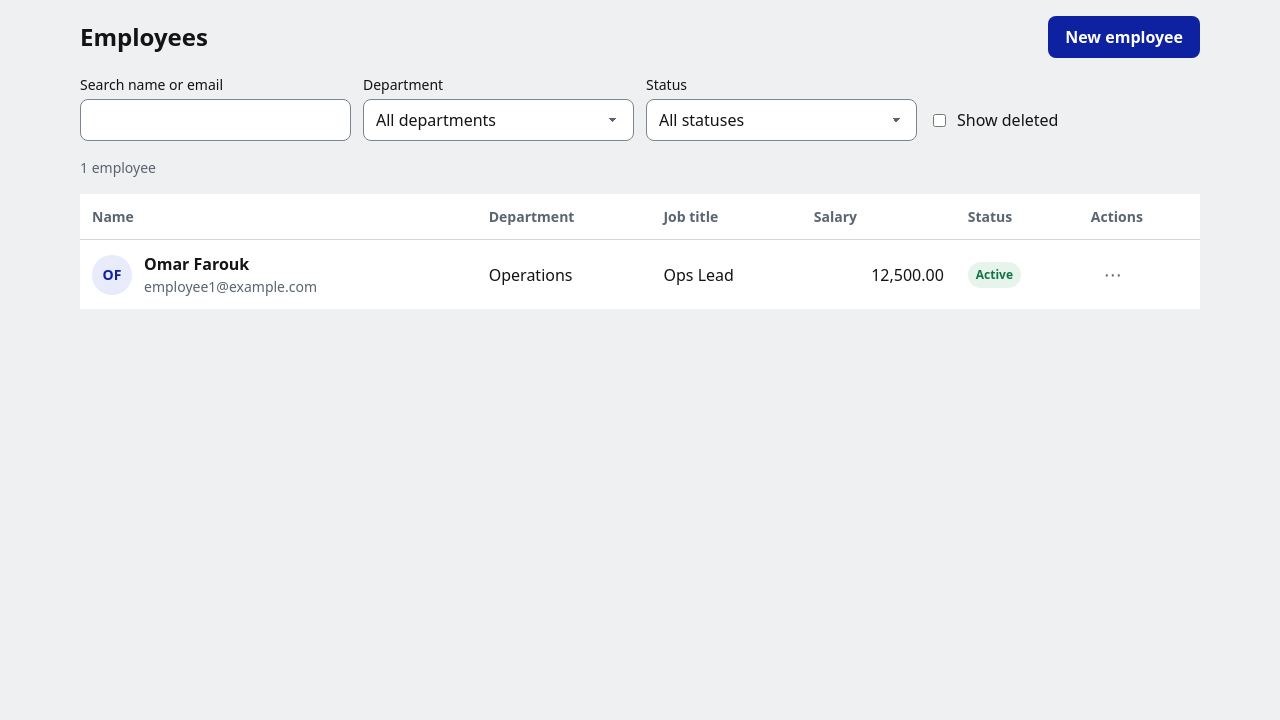
Scenario: Payslip drawer - opening and month (edge case 18) › closes with the close button
The image size is (1280, 720).
expect the table is shown: met, box [80,194,1200,309]
Click the button named "Actions for Omar Farouk" at (1113, 274), box [1091,256,1135,293]
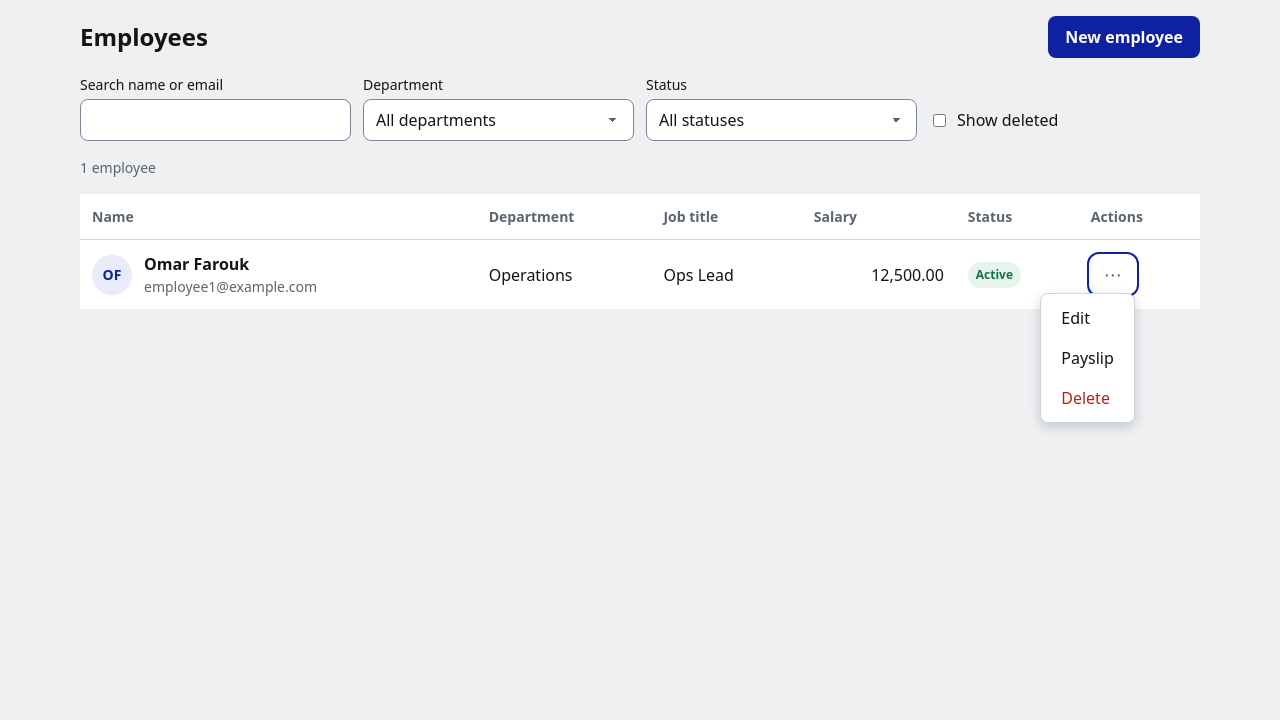
Click the menu item "Payslip" at (1088, 358), box [1045,338,1130,378]
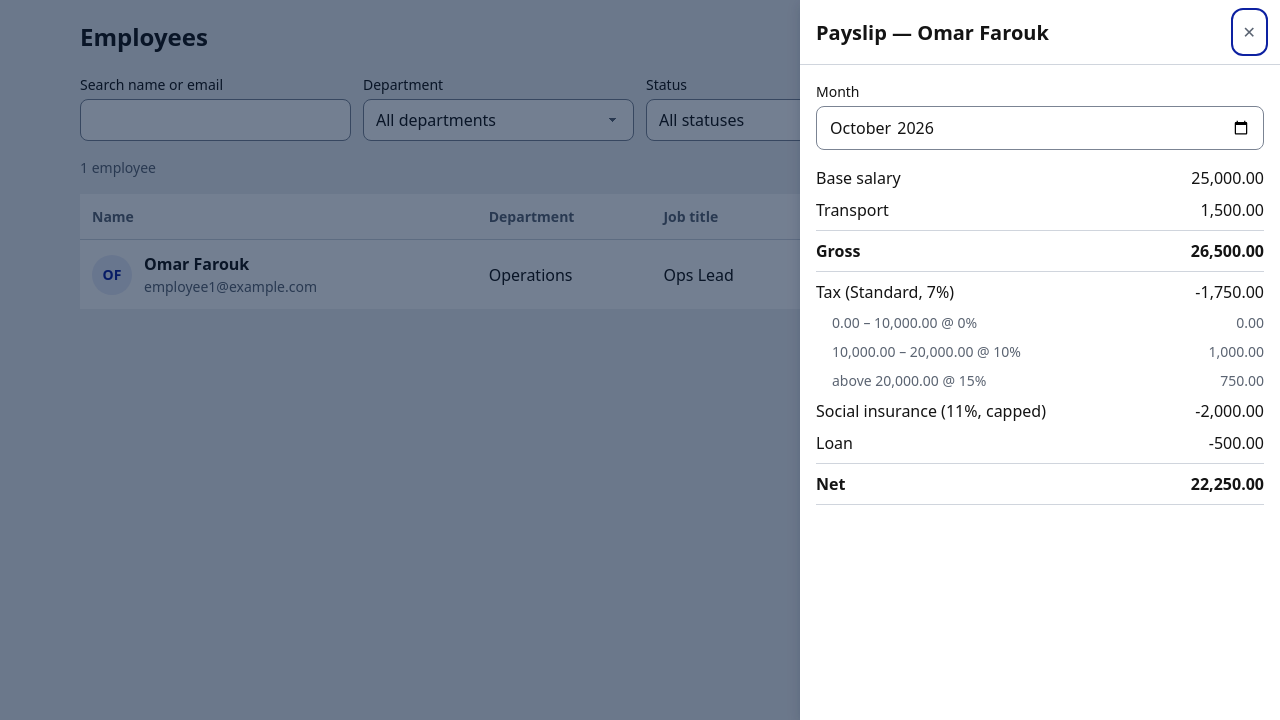
Click the button named "close" at (1249, 32), box [1235,12,1264,52]
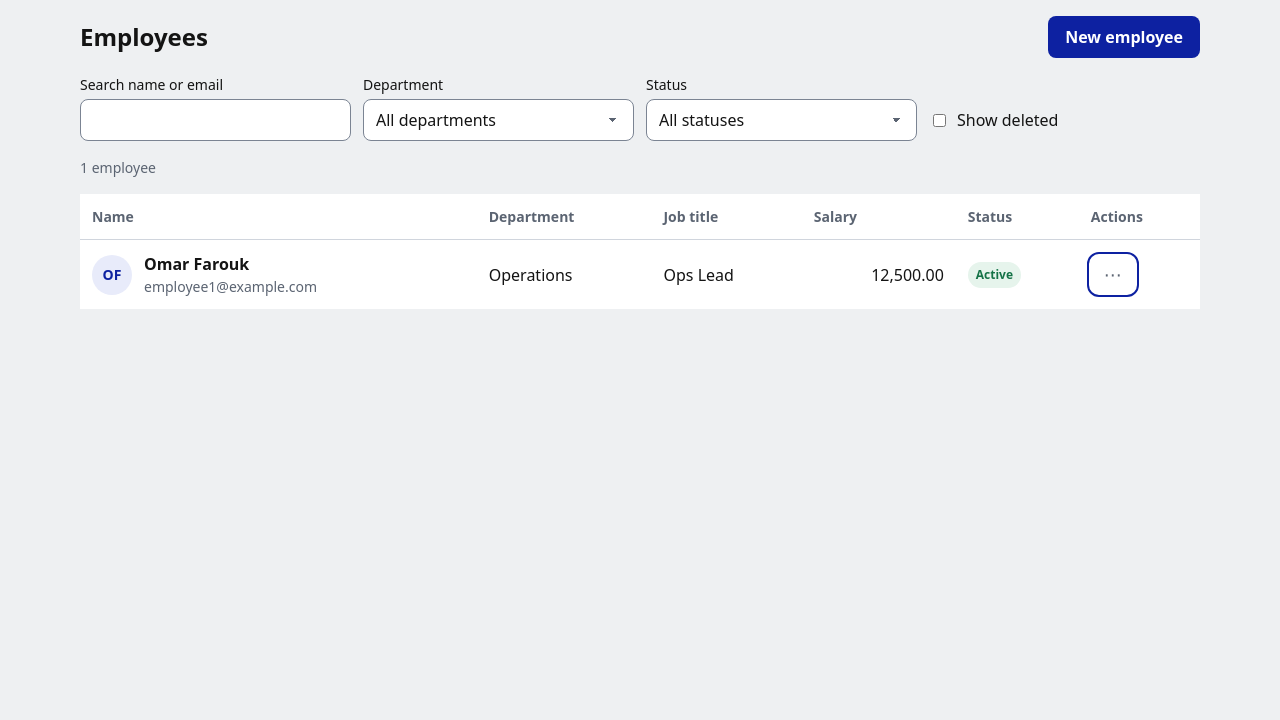
expect the dialog is gone: met
